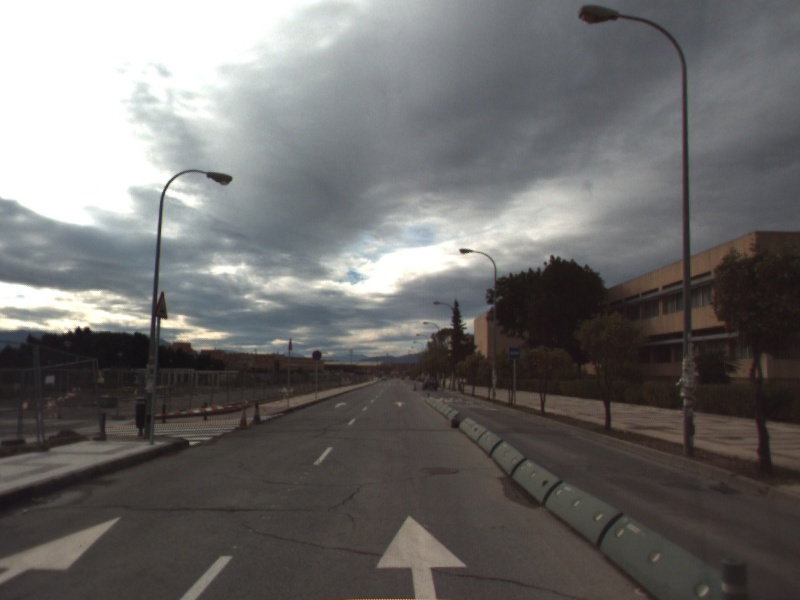STRAIGHT: (1, 513, 124, 586), (373, 512, 470, 600), (332, 400, 349, 410), (392, 400, 407, 409)
